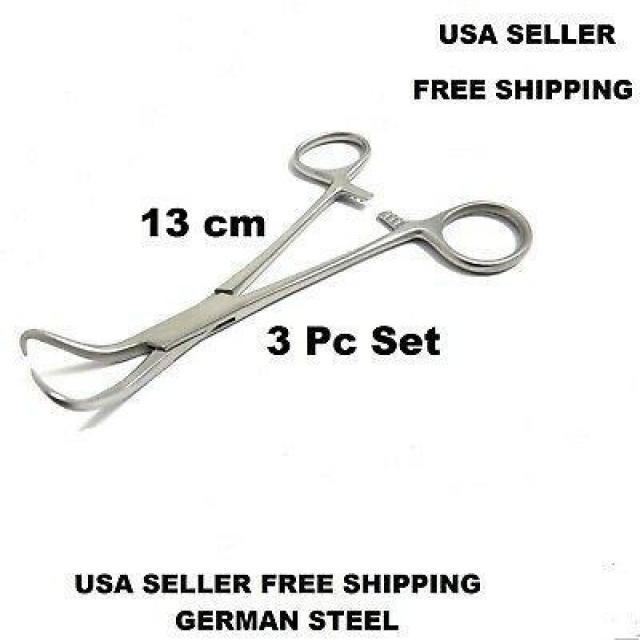Towel_clip: (16, 128, 536, 416)
